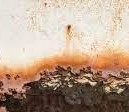Corrosion: (1, 50, 129, 112)
